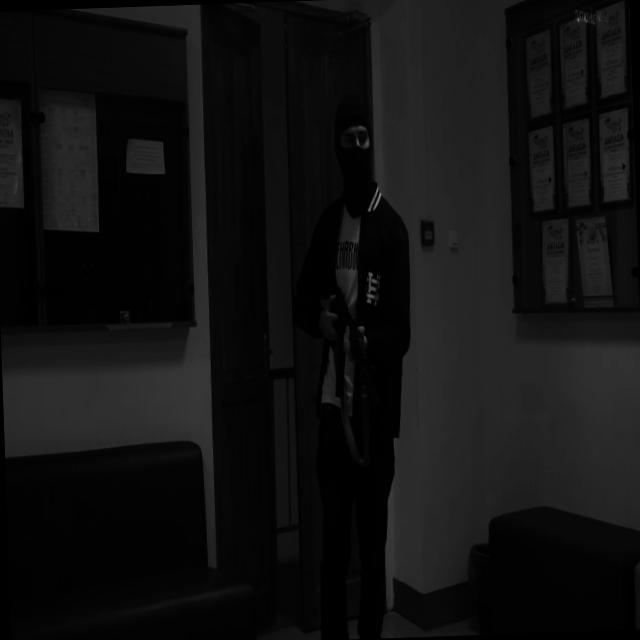gun: (317, 254, 380, 412)
person with a gun: (284, 91, 422, 640)
